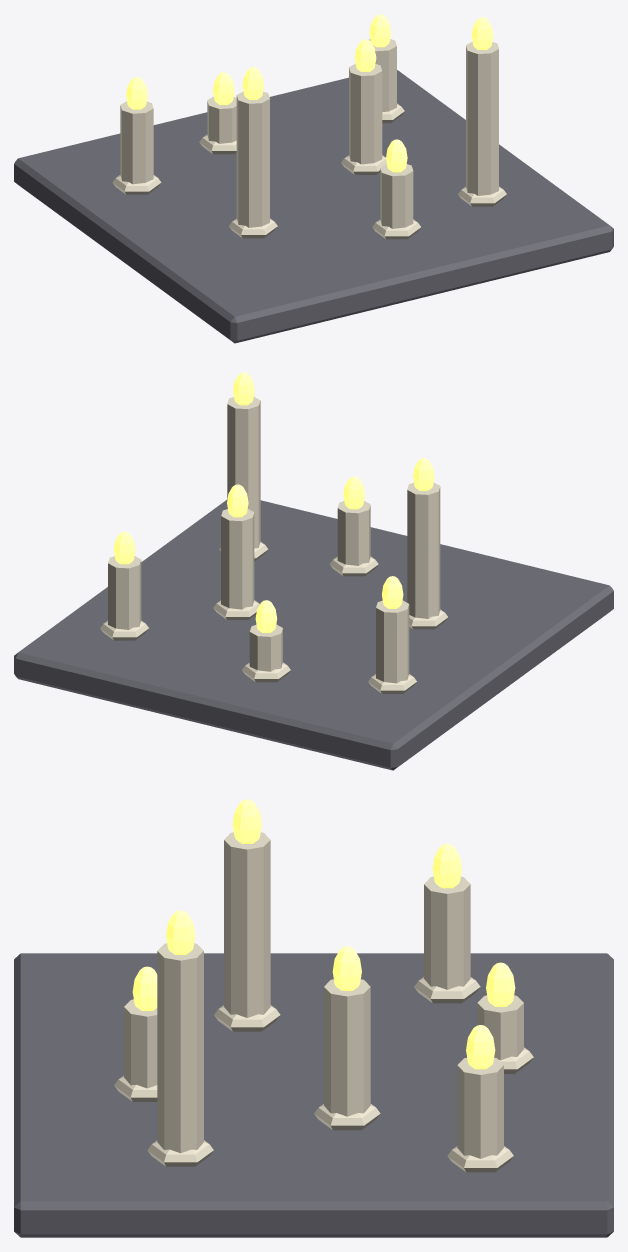
File: SM_Cripta_Velas.glb
3 views of the same model, one above another, from view 1: azimuth 30°, elevation 25°; view 2: azimuth 150°, elevation 25°; view 3: azimuth 270°, elevation 25° (orthographic). The views are drawn at different scales.
Parts seen in each view (by area): view 1: Cube; view 2: Cube; view 3: Cube.
Part boxes in pixels (left/top/right/bottom): Cube: left=14, top=14, right=613, bottom=343; Cube: left=14, top=372, right=613, bottom=770; Cube: left=14, top=799, right=613, bottom=1237.
Size of the model in its own units: 0.9 by 0.4668 by 0.9.
